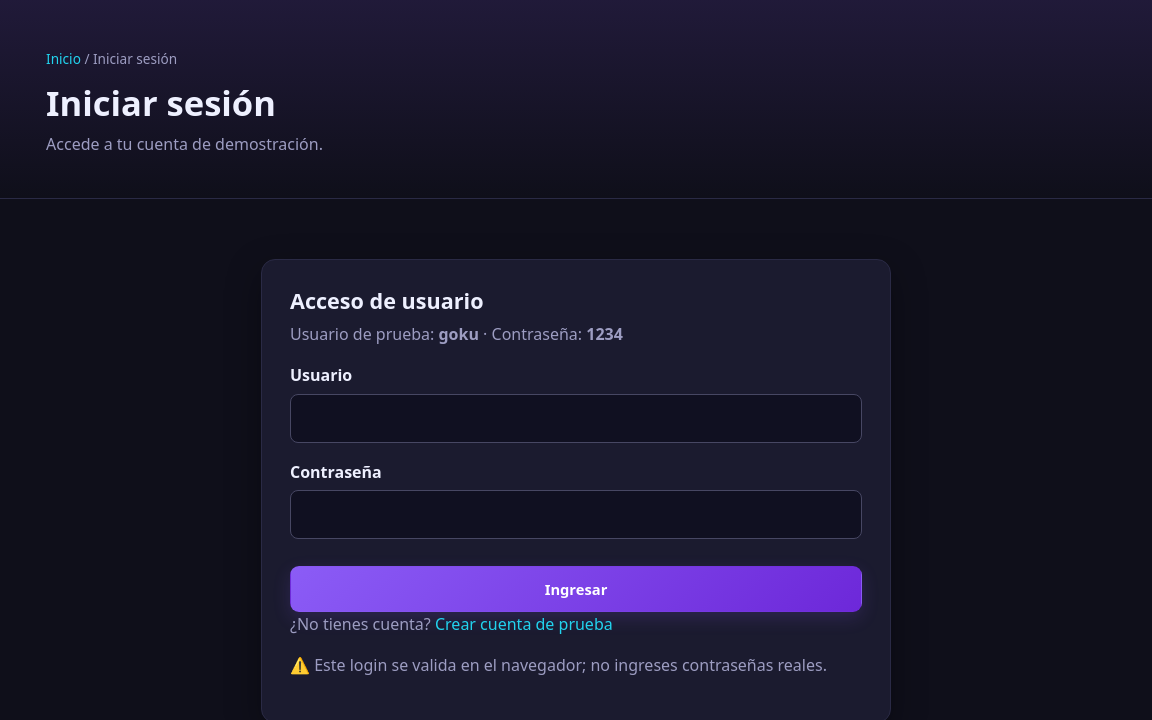
Test case: Login educativo › PF-04: credenciales inválidas no crean sesión
Type "equivocado" into the field labelled "Usuario" at {"x": 576, "y": 418}, box [290,394,862,443]
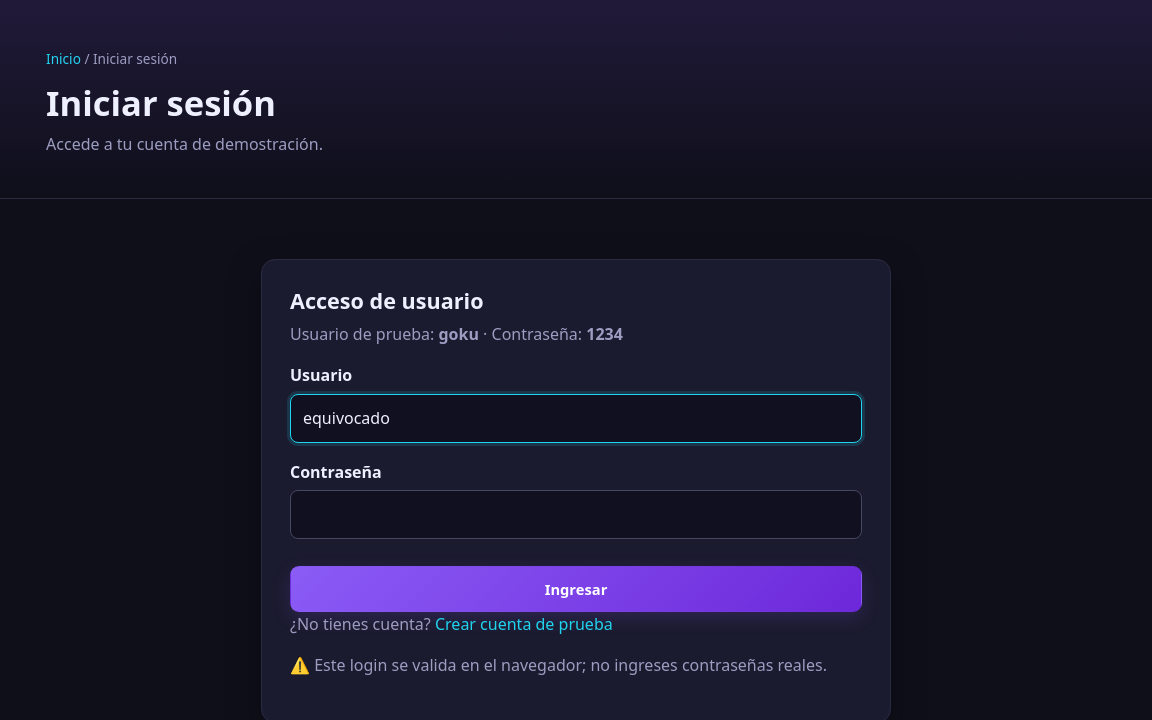
Type "error" into the password field labelled "Contraseña" at {"x": 576, "y": 515}, box [290,490,862,539]
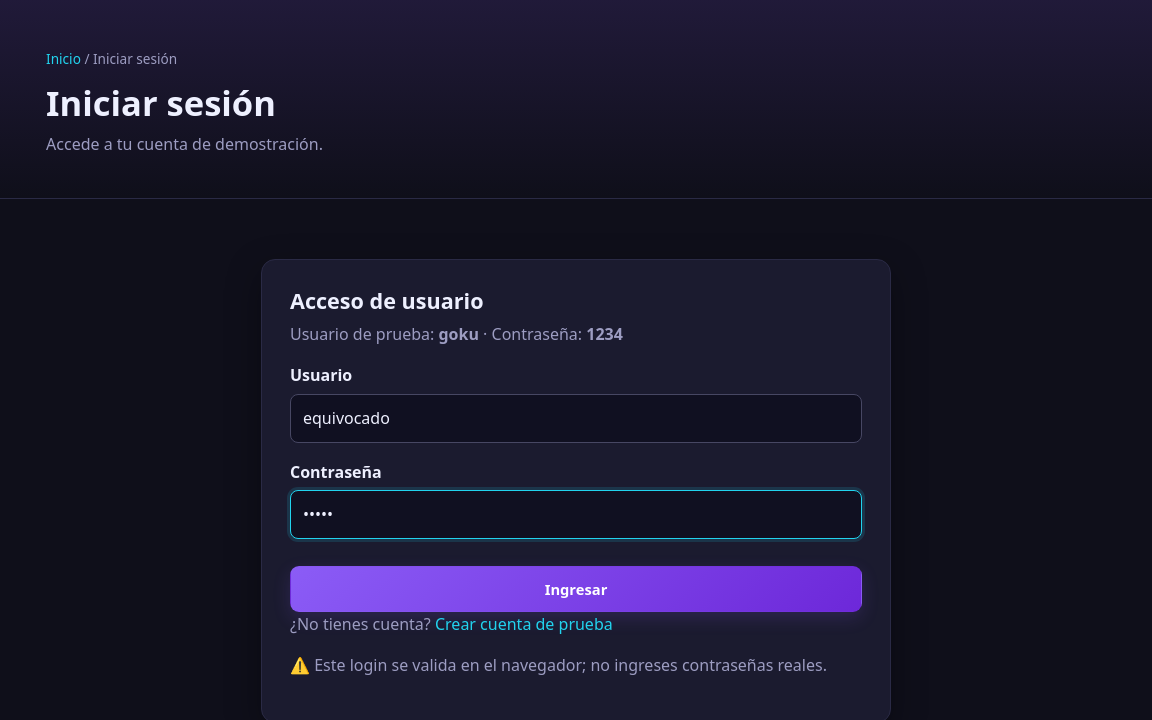
Click the button "Ingresar" at {"x": 576, "y": 589}, box [290,566,862,612]
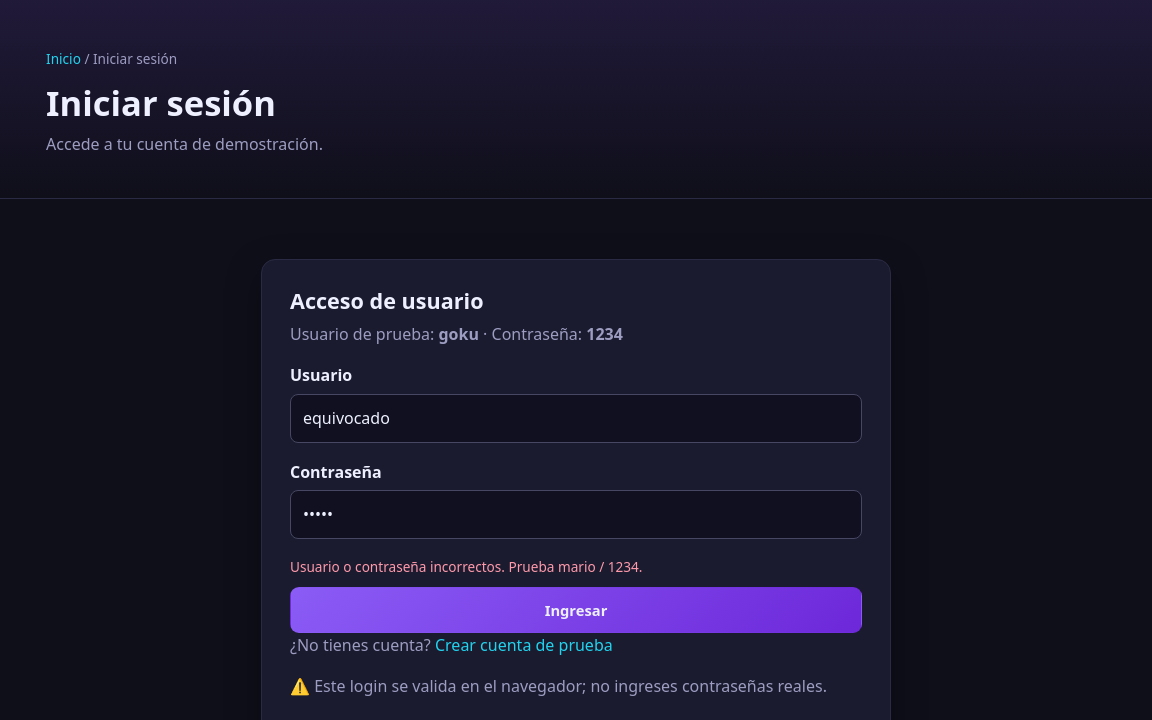
Now the message shows "incorrectos", box [290,557,642,576]
